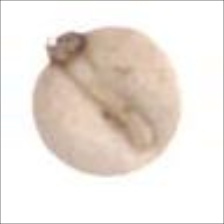L5: (65, 53, 157, 153), (135, 128, 178, 172), (43, 29, 88, 70)
L6: (32, 22, 183, 178)
